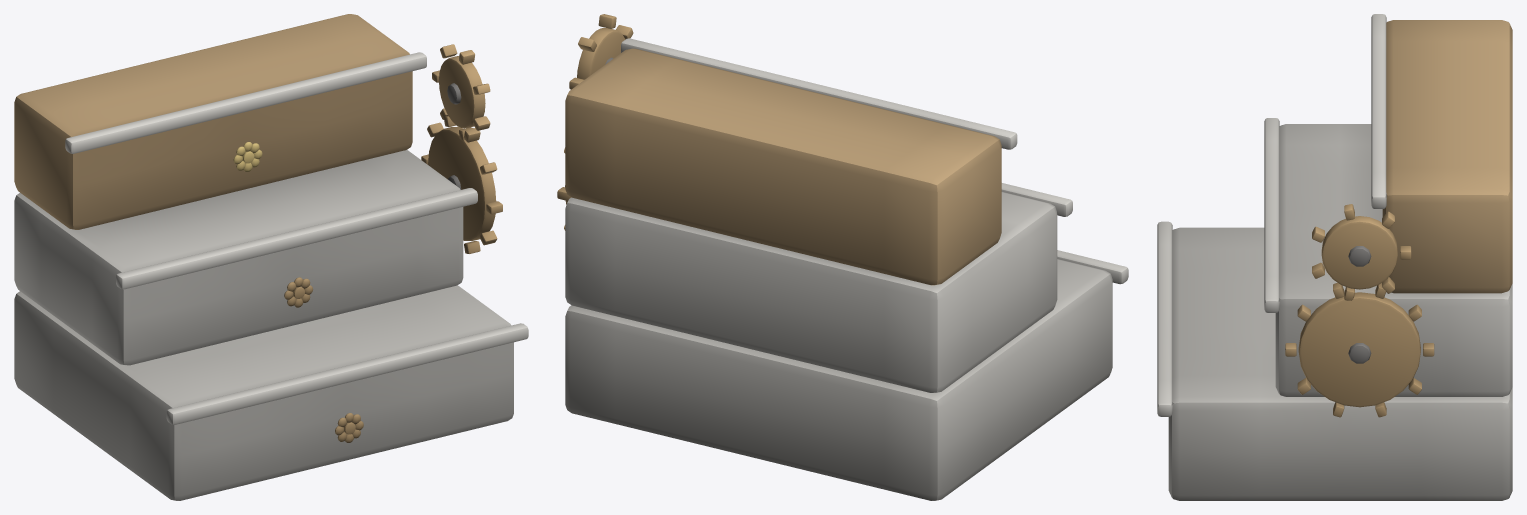
File: obj_kit_stairs.glb
3 views of the same model, side by side, from view 1: azimuth 30°, elevation 25°; view 2: azimuth 150°, elevation 25°; view 3: azimuth 270°, elevation 25° (orthographic). The views are drawn at different scales.
Parts seen in each view (by area): view 1: Cube, Cube.002, Cube.004, Cube.001, Cube.003, Cube.005, Cylinder.003, Cylinder.005; view 2: Cube.004, Cube, Cube.002, Cube.005, Cylinder.005, Cube.001, Cube.003; view 3: Cube, Cube.004, Cube.002, Cylinder.003, Cylinder.005, Cube.001, Cube.003, Cube.005.
Part boxes in pixels (x1=…): Cube: x1=14, y1=285, x2=513, y2=500; Cube.002: x1=14, y1=150, x2=463, y2=365; Cube.004: x1=14, y1=14, x2=412, y2=229; Cube.001: x1=166, y1=323, x2=528, y2=424; Cube.003: x1=116, y1=188, x2=477, y2=289; Cube.005: x1=65, y1=52, x2=426, y2=153; Cylinder.003: x1=428, y1=126, x2=496, y2=240; Cylinder.005: x1=439, y1=56, x2=485, y2=128; Cube.004: x1=565, y1=48, x2=1001, y2=285; Cube: x1=565, y1=259, x2=1112, y2=500; Cube.002: x1=565, y1=191, x2=1057, y2=392; Cube.005: x1=621, y1=38, x2=1017, y2=149; Cylinder.005: x1=577, y1=28, x2=625, y2=79; Cube.001: x1=1057, y1=250, x2=1128, y2=284; Cube.003: x1=1001, y1=183, x2=1072, y2=216; Cube: x1=1168, y1=227, x2=1512, y2=500; Cube.004: x1=1382, y1=20, x2=1512, y2=293; Cube.002: x1=1275, y1=124, x2=1512, y2=396; Cylinder.003: x1=1298, y1=292, x2=1420, y2=407; Cylinder.005: x1=1321, y1=216, x2=1397, y2=289; Cube.001: x1=1157, y1=221, x2=1172, y2=416; Cube.003: x1=1264, y1=118, x2=1279, y2=312; Cube.005: x1=1371, y1=14, x2=1386, y2=208.
Bounding box in the file's own units: 1.27 × 0.9133 × 0.93.
